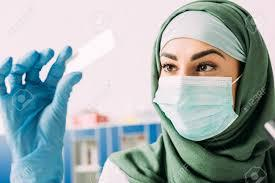Wearing Mask: (145, 0, 254, 142)
